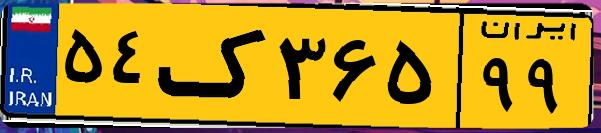3: (270, 28, 330, 110)
4: (110, 28, 158, 98)
5: (385, 28, 445, 110), (57, 26, 110, 100)
6: (330, 28, 385, 110)
9: (475, 38, 525, 113), (525, 38, 570, 115)
ک: (158, 12, 270, 120)
